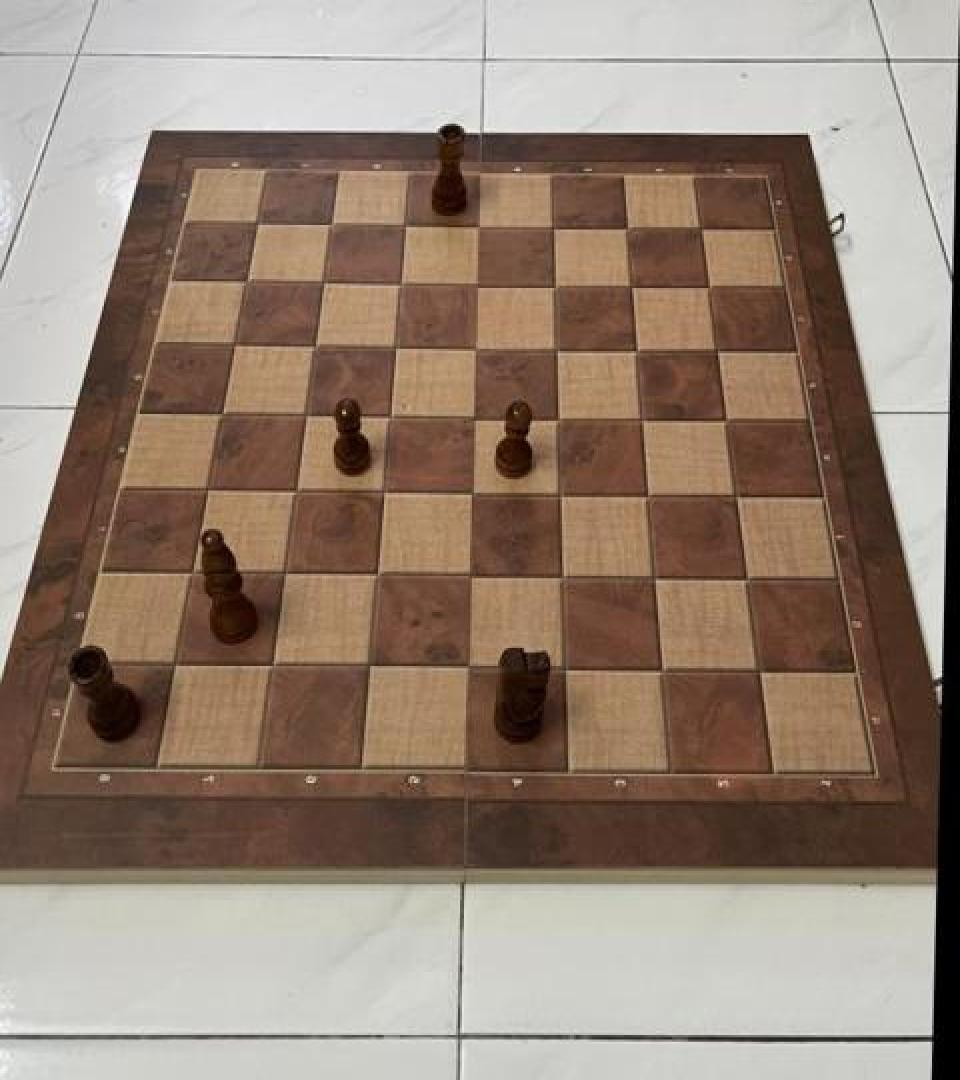xcorner: (241, 202, 275, 241), (626, 400, 660, 439), (452, 650, 486, 689), (315, 204, 349, 242), (390, 205, 424, 243), (464, 207, 498, 245), (538, 208, 572, 246), (612, 210, 646, 248), (685, 210, 719, 248), (230, 261, 264, 299), (308, 264, 342, 302), (385, 264, 419, 302), (462, 266, 496, 304), (539, 267, 573, 305), (616, 268, 650, 306), (693, 269, 727, 307), (218, 325, 252, 363), (299, 326, 333, 364), (380, 328, 414, 366), (461, 330, 495, 368), (541, 331, 575, 369), (621, 332, 655, 370), (701, 333, 735, 371), (205, 395, 239, 433), (290, 396, 324, 434), (375, 397, 409, 435), (459, 398, 493, 436), (543, 400, 577, 438), (710, 402, 744, 440), (191, 472, 225, 510), (280, 472, 314, 510), (369, 474, 403, 512), (457, 475, 491, 513), (545, 476, 579, 514), (632, 477, 666, 515), (720, 478, 754, 516), (176, 555, 210, 593), (269, 556, 303, 594), (362, 557, 396, 595), (455, 558, 489, 596), (547, 559, 581, 597), (639, 560, 673, 598), (730, 562, 764, 600), (159, 648, 193, 686), (257, 648, 291, 686), (355, 649, 389, 687), (549, 652, 583, 690), (646, 652, 680, 690), (742, 652, 776, 690)
